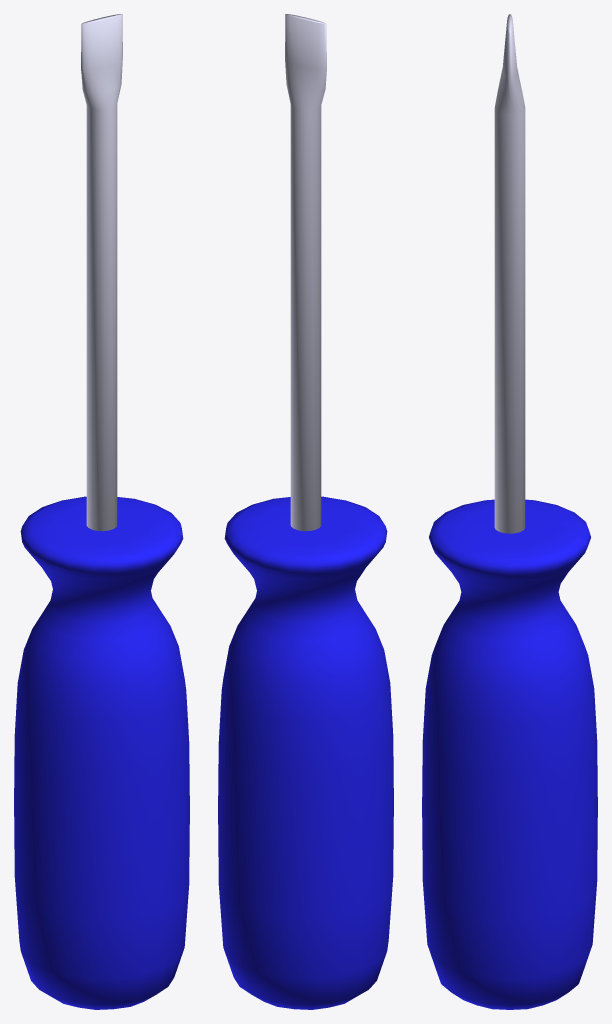
File: tournevis.obj
3 views of the same model, side by side, from view 1: azimuth 30°, elevation 25°; view 2: azimuth 150°, elevation 25°; view 3: azimuth 270°, elevation 25° (orthographic).
Parts seen in each view (by area): view 1: manche, metal; view 2: manche, metal; view 3: manche, metal.
Part boxes in pixels (x1,y1,x2,y2): manche: (14,496,189,1009); metal: (81,14,122,531); manche: (218,496,393,1009); metal: (285,14,326,531); manche: (422,499,597,1009); metal: (494,14,525,533).
Bounding box in the file's own units: 1.14 × 6.93 × 1.14.
